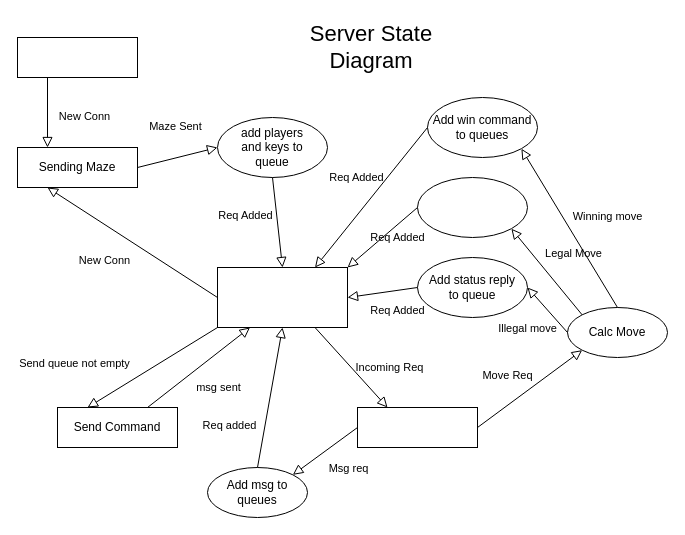
Some shapes in this 685 by 535 pixel diagram are drawn without their labels. The shapes that lost their labels are listed below. From the top down, each one's centre as x and y in pixels, then its label:
point 77,57: Listening (New Conn)
point 472,207: Add move (and key) req to queues
point 282,297: Send and Receive
point 417,427: Receive Request
